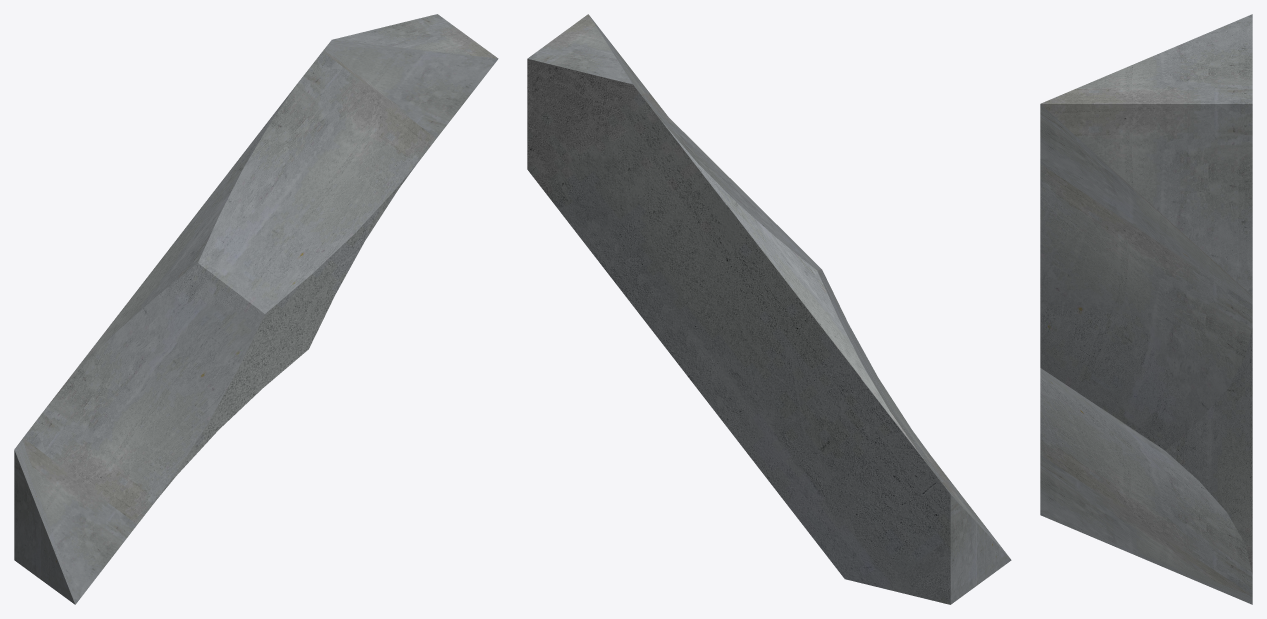
Rendered from module_E2.fbx.
3 renders of one model, left to right at view 1: azimuth 30°, elevation 25°; view 2: azimuth 150°, elevation 25°; view 3: azimuth 270°, elevation 25°, orthographic. The views are drawn at different scales.
Visible parts, largest first — view 1: modules; view 2: modules; view 3: modules.
Boxes of the visible parts, left/top/right/bottom form: modules: left=14, top=14, right=498, bottom=604; modules: left=527, top=14, right=1011, bottom=604; modules: left=1040, top=14, right=1252, bottom=604.
Bounding box in the file's own units: 1000 × 250 × 1000.
1 material, 1 textured.
